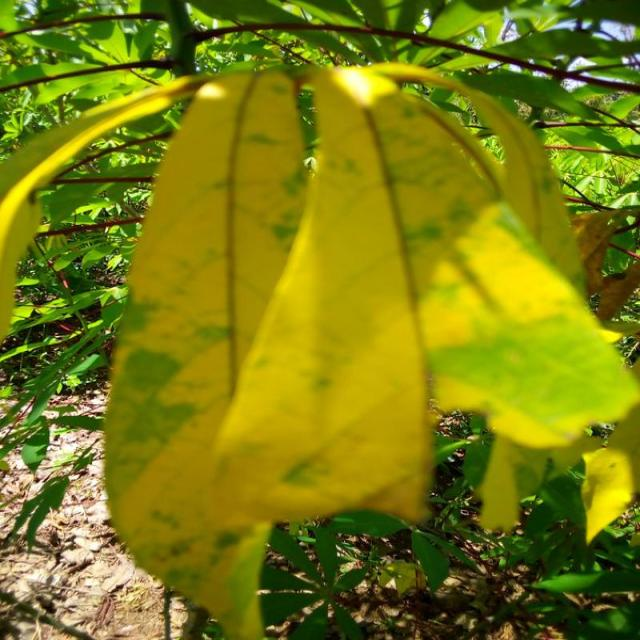cassava leaf: (100, 61, 636, 637)
